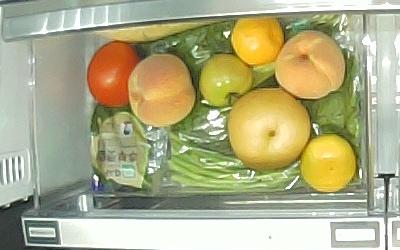peach: (127, 52, 196, 128), (274, 29, 344, 98)
pear: (227, 88, 312, 171)
tangerine: (300, 135, 357, 193), (231, 16, 285, 67)
tomato: (86, 40, 142, 109), (198, 52, 253, 108)
